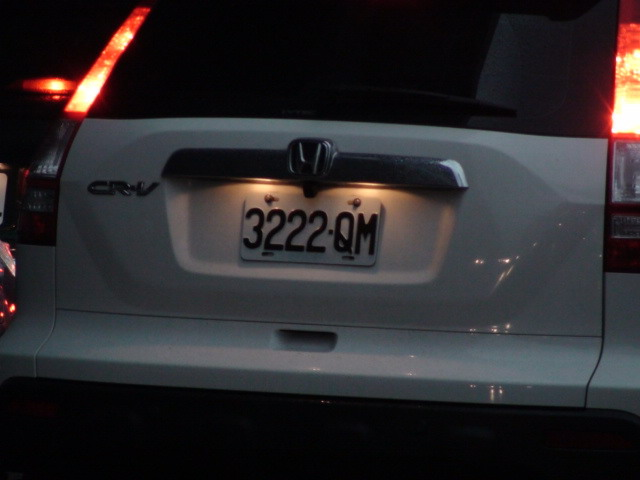plate: (239, 192, 384, 269)
